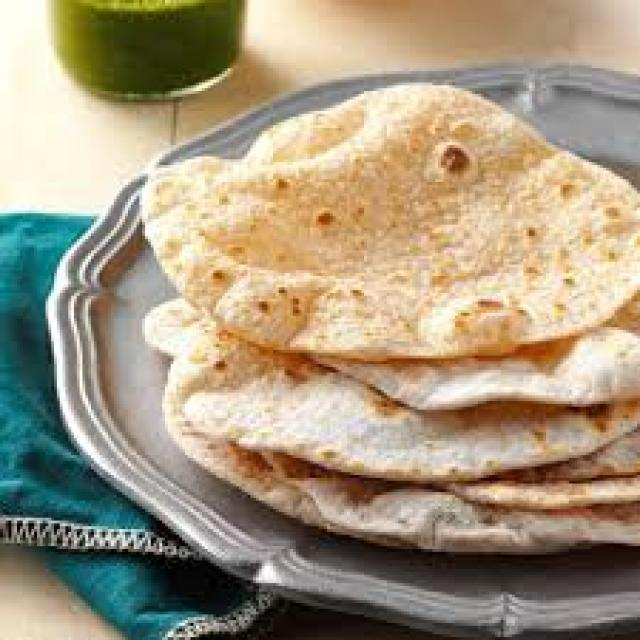CHAPATHI: (135, 85, 637, 558)
